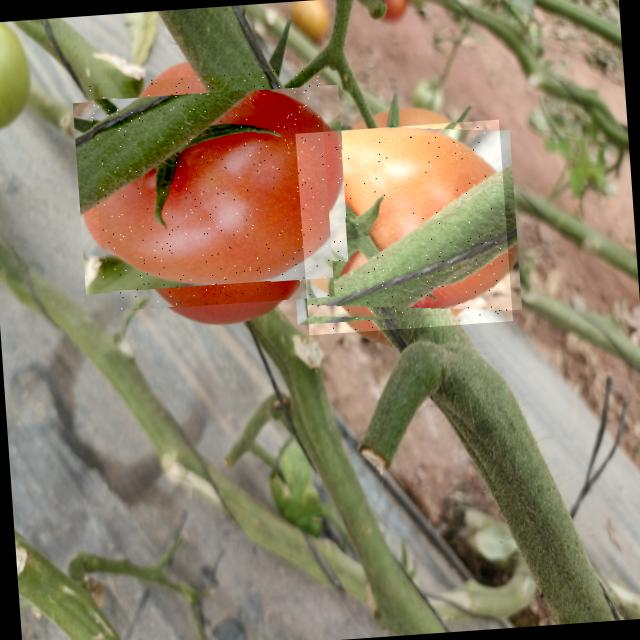Ripe Tomato: (89, 67, 334, 312)
Unripe Tomato: (294, 119, 512, 335)
